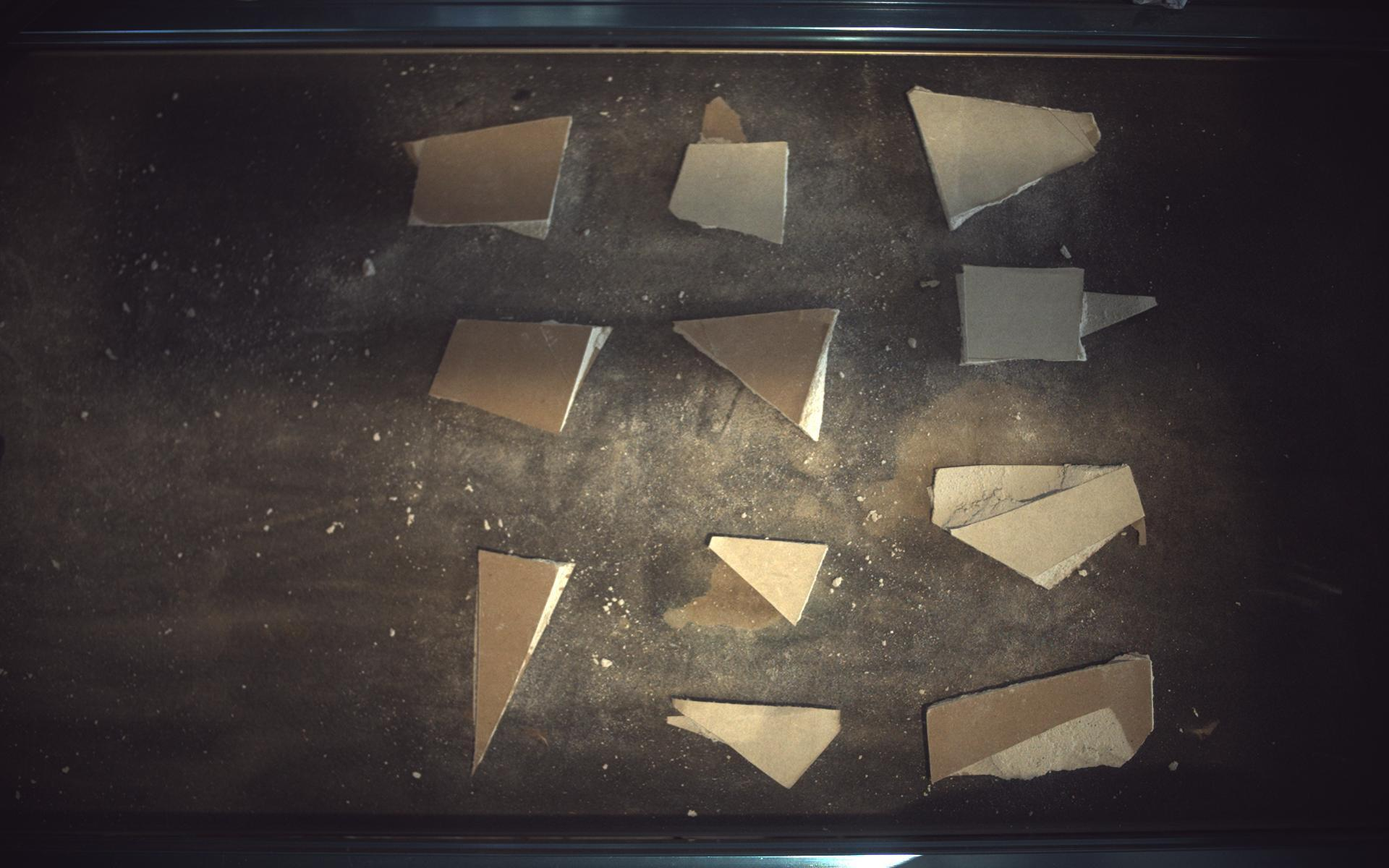gypsum_board: (928, 655, 1156, 784), (909, 85, 1103, 229), (933, 464, 1148, 590), (472, 550, 576, 775), (674, 309, 841, 441), (429, 320, 613, 433), (404, 116, 572, 238), (958, 265, 1159, 365), (670, 96, 789, 243), (669, 701, 842, 789), (710, 536, 829, 626)
